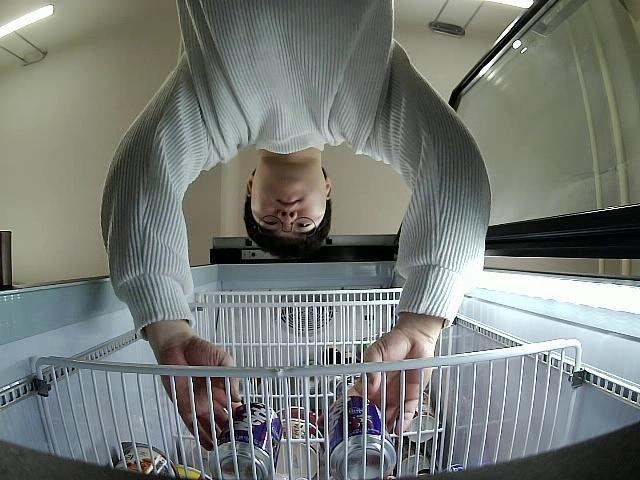14_welchsGrape: (324, 394, 398, 480), (210, 401, 282, 480)
